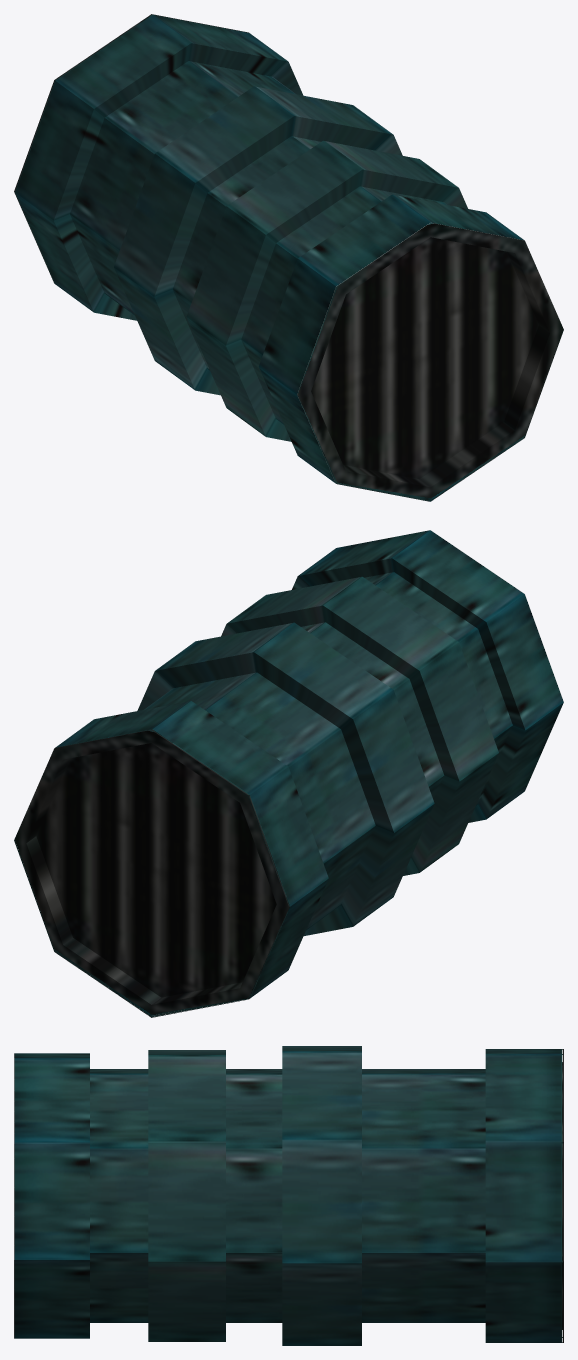
The picture shows the model from 3 angles, top to bottom: view 1: azimuth 30°, elevation 25°; view 2: azimuth 150°, elevation 25°; view 3: azimuth 270°, elevation 25°; orthographic projection.
Parts seen in each view (by area): view 1: Cylinder; view 2: Cylinder; view 3: Cylinder.
Part boxes in pixels (x1,y1,x2,y2): Cylinder: (14, 14, 563, 501); Cylinder: (14, 530, 563, 1017); Cylinder: (14, 1046, 563, 1345).
Bounding box in the file's own units: 236 × 236 × 407.
Materials: 1 (1 with a texture image).
